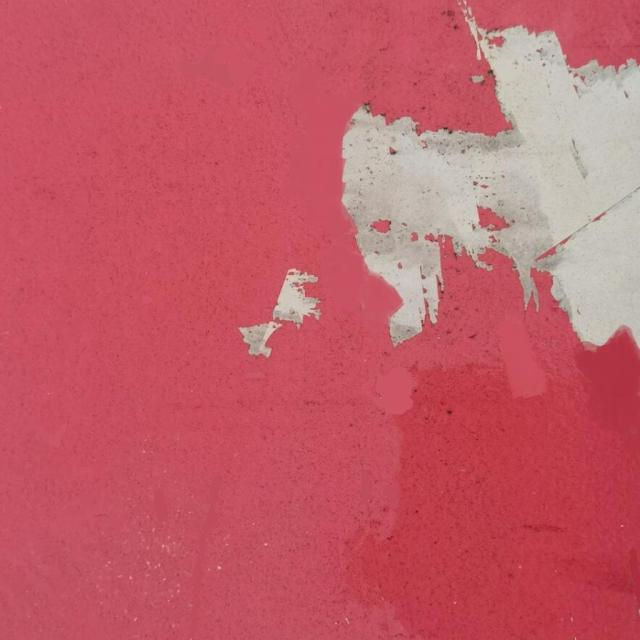surface_peeling: (337, 24, 639, 357), (240, 264, 324, 354)
